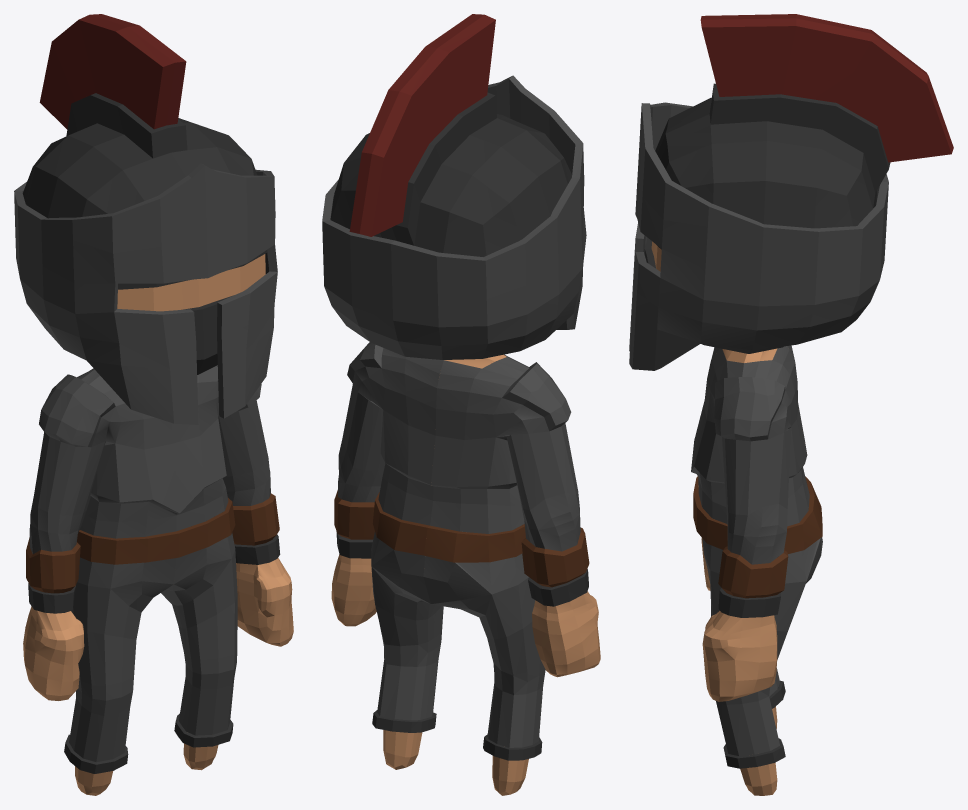
The model's file is debout-knight-male.glb.
3 views of the same model, side by side, from view 1: azimuth 30°, elevation 25°; view 2: azimuth 150°, elevation 25°; view 3: azimuth 270°, elevation 25° (orthographic).
Visible parts, largest first — view 1: Cube000_1, Cube000_2, Cube000, Cube000_4, Cube000_3; view 2: Cube000_1, Cube000_2, Cube000_4, Cube000, Cube000_3; view 3: Cube000_1, Cube000_2, Cube000_4, Cube000, Cube000_3.
Boxes of the visible parts, x1=… form: Cube000_1: x1=14, y1=163, x2=277, y2=762; Cube000_2: x1=22, y1=93, x2=280, y2=773; Cube000: x1=23, y1=254, x2=293, y2=795; Cube000_4: x1=39, y1=14, x2=186, y2=129; Cube000_3: x1=26, y1=493, x2=279, y2=593; Cube000_1: x1=322, y1=75, x2=586, y2=747; Cube000_2: x1=330, y1=92, x2=588, y2=760; Cube000_4: x1=349, y1=14, x2=495, y2=236; Cube000: x1=331, y1=354, x2=600, y2=795; Cube000_3: x1=334, y1=490, x2=589, y2=587; Cube000_1: x1=629, y1=102, x2=888, y2=755; Cube000_2: x1=644, y1=83, x2=890, y2=768; Cube000_4: x1=700, y1=14, x2=953, y2=162; Cube000: x1=651, y1=241, x2=777, y2=795; Cube000_3: x1=693, y1=476, x2=822, y2=598.
Size of the model in its own units: 0.658 by 1.8 by 0.7075.
